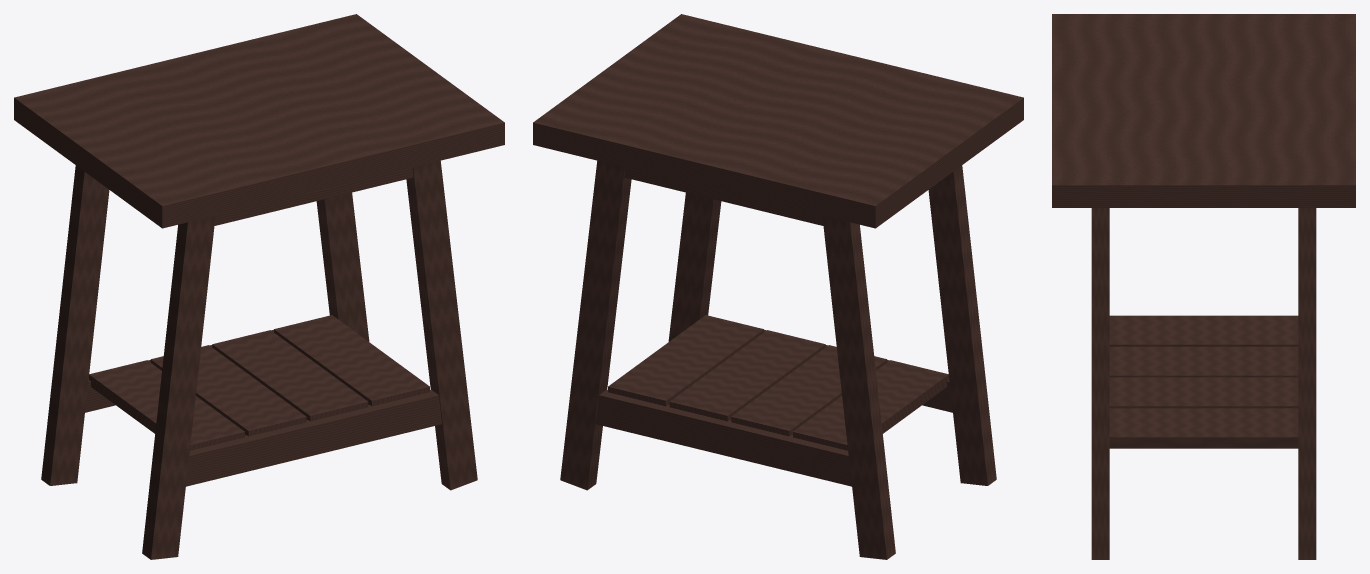
3 views of the same model, side by side, from view 1: azimuth 30°, elevation 25°; view 2: azimuth 150°, elevation 25°; view 3: azimuth 270°, elevation 25° (orthographic). The views are drawn at different scales.
Visible parts, largest first — view 1: 1 tabletop, 10 leg_front_left, 11 leg_front_right, 12 leg_back_left, 4 lower_rail_front, 8 lower_shelf_slat_3, 9 lower_shelf_slat_4, 7 lower_shelf_slat_2, 13 leg_back_right, 6 lower_shelf_slat_1, 2 upper_rail_front; view 2: 1 tabletop, 12 leg_back_left, 13 leg_back_right, 10 leg_front_left, 5 lower_rail_back, 8 lower_shelf_slat_3, 9 lower_shelf_slat_4, 7 lower_shelf_slat_2, 11 leg_front_right, 6 lower_shelf_slat_1, 3 upper_rail_back; view 3: 1 tabletop, 9 lower_shelf_slat_4, 11 leg_front_right, 13 leg_back_right, 6 lower_shelf_slat_1, 8 lower_shelf_slat_3, 7 lower_shelf_slat_2.
Part boxes in pixels (x1=…): 1 tabletop: x1=14, y1=14, x2=504, y2=228; 10 leg_front_left: x1=142, y1=215, x2=215, y2=559; 11 leg_front_right: x1=406, y1=160, x2=477, y2=490; 12 leg_back_left: x1=41, y1=165, x2=109, y2=485; 4 lower_rail_front: x1=186, y1=389, x2=441, y2=486; 8 lower_shelf_slat_3: x1=212, y1=330, x2=368, y2=421; 9 lower_shelf_slat_4: x1=274, y1=315, x2=429, y2=406; 7 lower_shelf_slat_2: x1=150, y1=345, x2=306, y2=436; 13 leg_back_right: x1=316, y1=192, x2=369, y2=341; 6 lower_shelf_slat_1: x1=89, y1=360, x2=244, y2=450; 2 upper_rail_front: x1=214, y1=167, x2=413, y2=225; 1 tabletop: x1=533, y1=14, x2=1023, y2=228; 12 leg_back_left: x1=822, y1=215, x2=895, y2=559; 13 leg_back_right: x1=560, y1=160, x2=631, y2=490; 10 leg_front_left: x1=928, y1=165, x2=996, y2=485; 5 lower_rail_back: x1=596, y1=389, x2=851, y2=486; 8 lower_shelf_slat_3: x1=669, y1=330, x2=825, y2=421; 9 lower_shelf_slat_4: x1=608, y1=315, x2=763, y2=406; 7 lower_shelf_slat_2: x1=731, y1=345, x2=887, y2=436; 11 leg_front_right: x1=668, y1=192, x2=721, y2=341; 6 lower_shelf_slat_1: x1=793, y1=360, x2=948, y2=450; 3 upper_rail_back: x1=624, y1=167, x2=823, y2=225; 1 tabletop: x1=1052, y1=14, x2=1355, y2=207; 9 lower_shelf_slat_4: x1=1109, y1=408, x2=1298, y2=448; 11 leg_front_right: x1=1091, y1=208, x2=1109, y2=559; 13 leg_back_right: x1=1298, y1=208, x2=1316, y2=559; 6 lower_shelf_slat_1: x1=1109, y1=315, x2=1298, y2=346; 8 lower_shelf_slat_3: x1=1109, y1=377, x2=1298, y2=408; 7 lower_shelf_slat_2: x1=1109, y1=346, x2=1298, y2=377.
Bounding box in the file's own units: 0.96 × 1 × 0.72.
Materials: 1 (1 with a texture image).
